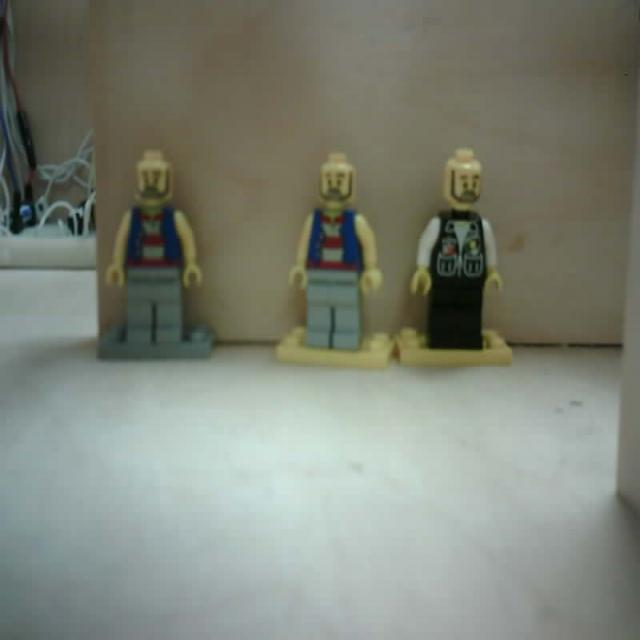Lego-People: (393, 150, 517, 369), (278, 153, 398, 372), (98, 152, 214, 360)
